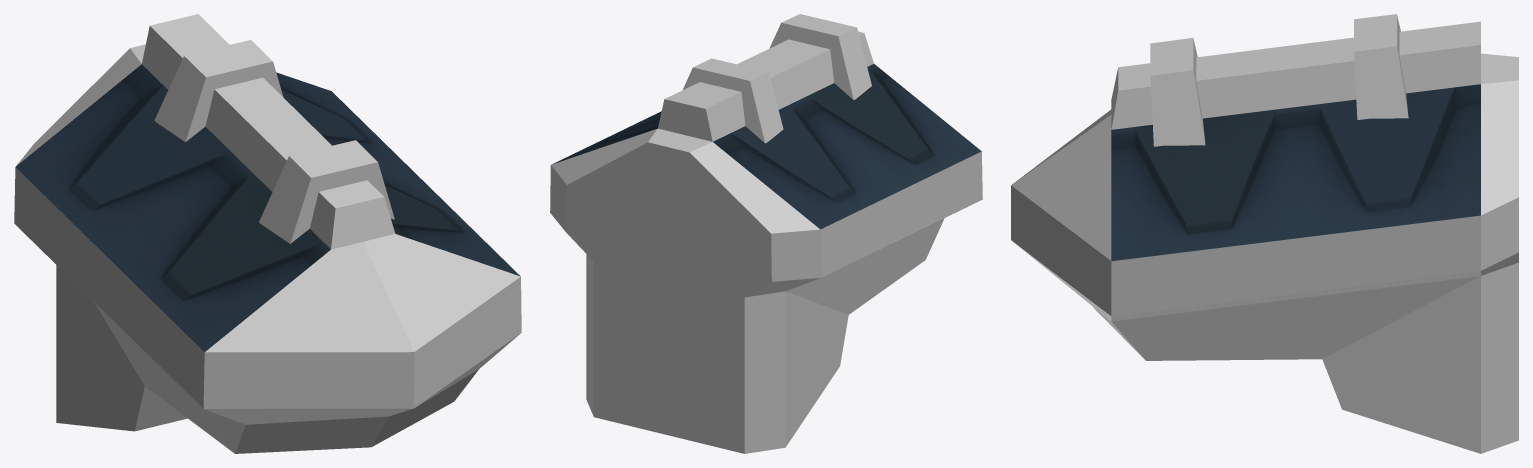
File: SM_Bld_Roof_Cap_Angle_End_01.fbx
The picture shows the model from 3 angles, left to right: view 1: azimuth 30°, elevation 25°; view 2: azimuth 150°, elevation 25°; view 3: azimuth 270°, elevation 25°; orthographic projection. The views are drawn at different scales.
Visible parts, largest first — view 1: SM_Bld_Roof_Cap_Angle_End_01; view 2: SM_Bld_Roof_Cap_Angle_End_01; view 3: SM_Bld_Roof_Cap_Angle_End_01.
Boxes of the visible parts, x1,y1,x2,y2 form: SM_Bld_Roof_Cap_Angle_End_01: (14,14,521,453); SM_Bld_Roof_Cap_Angle_End_01: (550,14,982,453); SM_Bld_Roof_Cap_Angle_End_01: (1011,14,1518,453).
Bounding box in the file's own units: 62.62 × 71.08 × 88.68.
